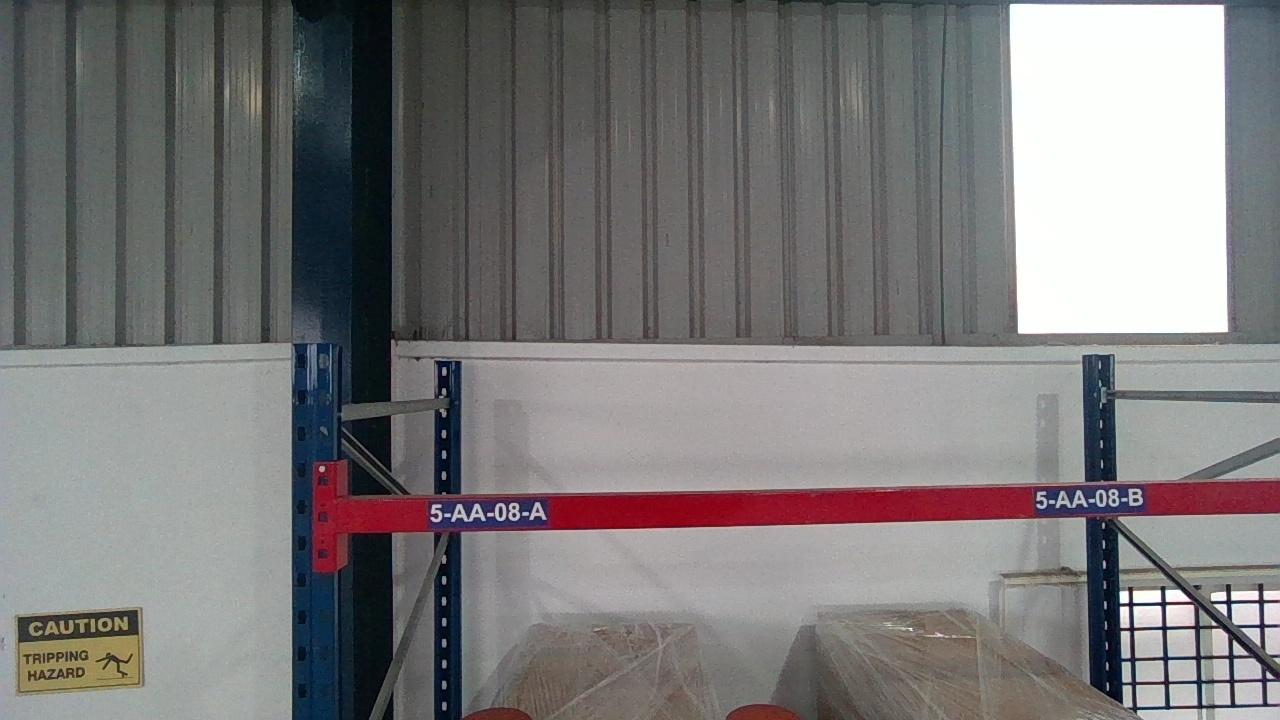h_rack: (339, 492, 1280, 516)
